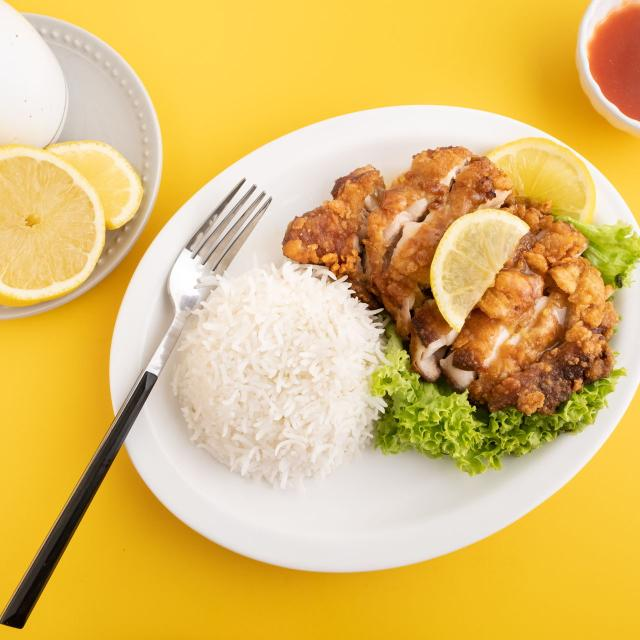Chicken: (282, 146, 512, 389), (411, 197, 618, 414), (430, 209, 528, 331)
Green veg: (371, 322, 626, 476), (556, 218, 640, 290)
Non green veg: (0, 140, 143, 306), (430, 208, 528, 330), (485, 138, 596, 222)
Rice: (170, 262, 385, 488)
